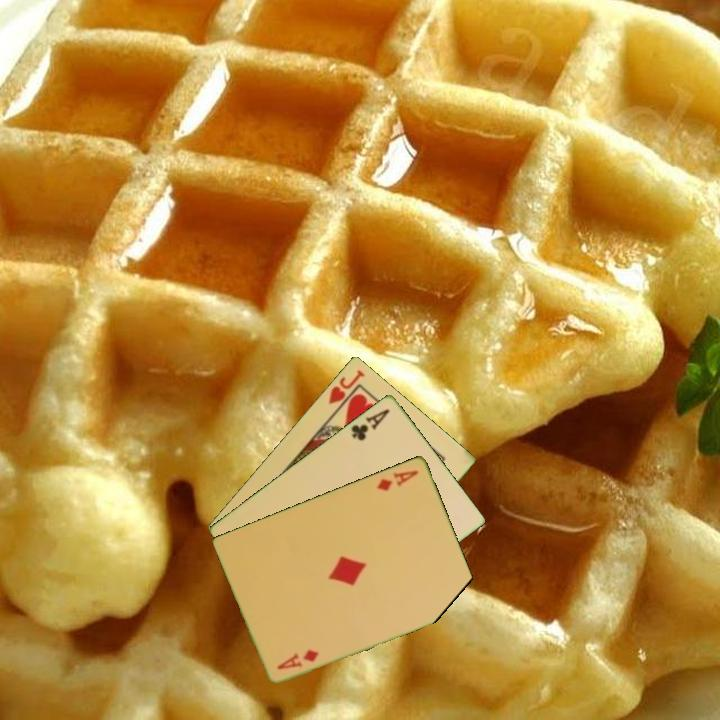Ac: (348, 405, 393, 443)
Ad: (373, 466, 421, 494), (274, 645, 322, 672)
Jh: (325, 366, 368, 407)
